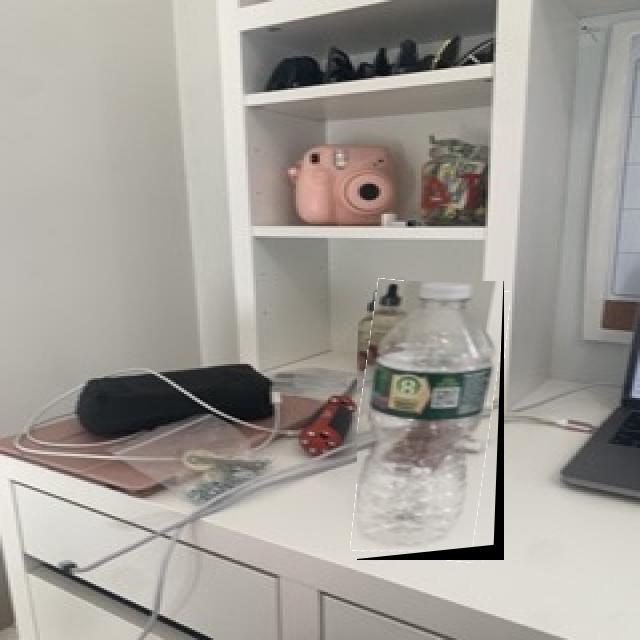water_bottle: (357, 281, 504, 560)
